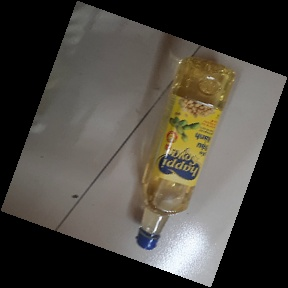Happy Soya: (135, 55, 237, 249)
